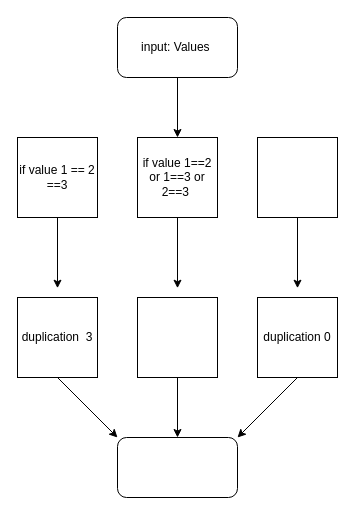
This 355x515 diagram has some shape labels left out. Each missing label, with the box of its shape:
duplication 2: (136, 296, 218, 378)
else = 0: (256, 136, 338, 218)
Output: Duplication_____: (116, 436, 238, 498)
